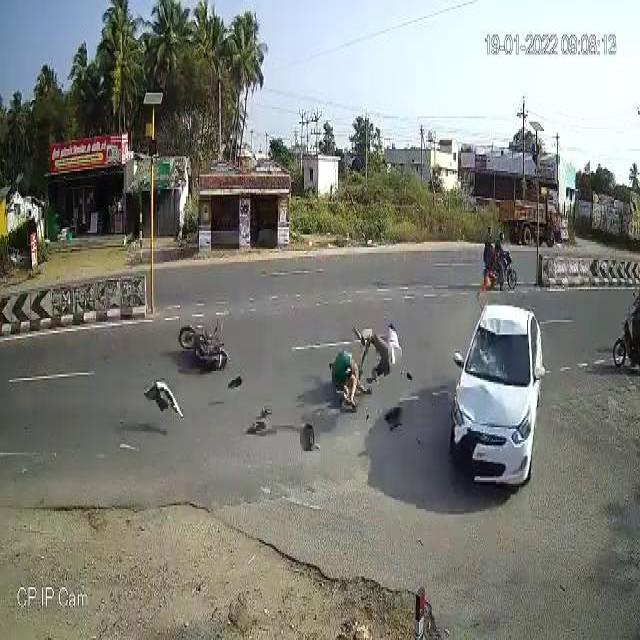accident: (324, 277, 549, 508), (135, 319, 246, 432)
